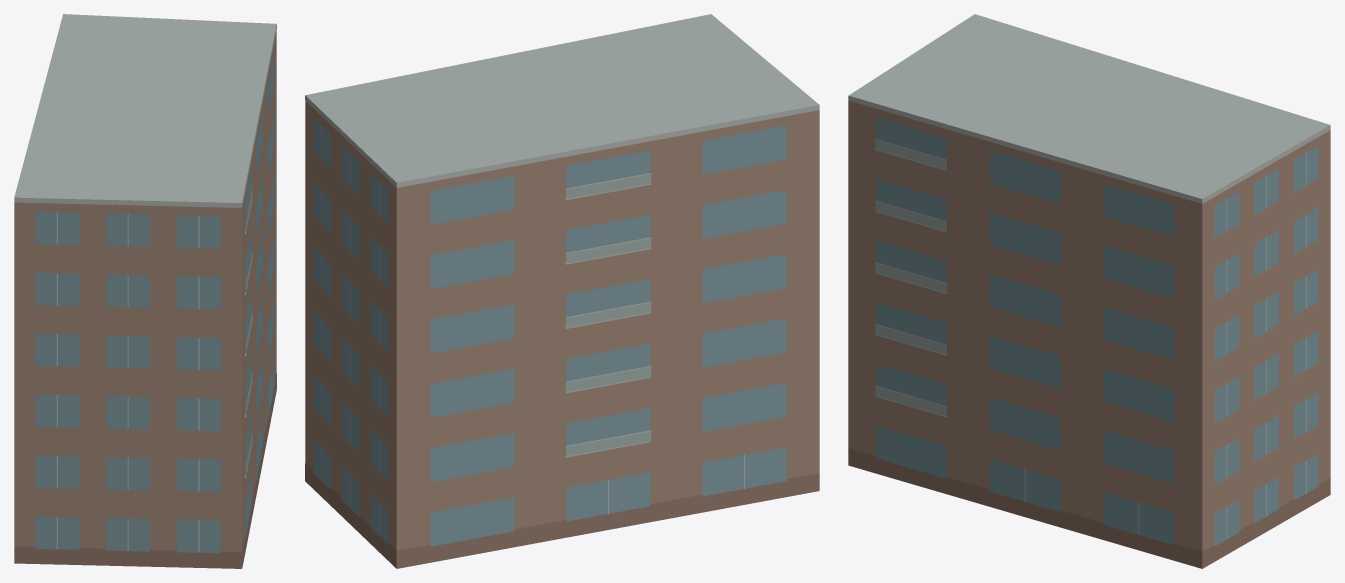
Rendered from survey-upis-32563949.glb.
3 renders of one model, left to right at view 1: azimuth 30°, elevation 25°; view 2: azimuth 150°, elevation 25°; view 3: azimuth 270°, elevation 25°, orthographic. The views are drawn at different scales.
Visible parts, largest first — view 1: survey-upis-32563949.tmp; view 2: survey-upis-32563949.tmp; view 3: survey-upis-32563949.tmp.
Boxes of the visible parts, left/top/right/bottom form: survey-upis-32563949.tmp: left=14, top=14, right=276, bottom=568; survey-upis-32563949.tmp: left=305, top=14, right=819, bottom=568; survey-upis-32563949.tmp: left=848, top=14, right=1330, bottom=568.
Size of the model in its own units: 19.65 by 18.3 by 21.63.
